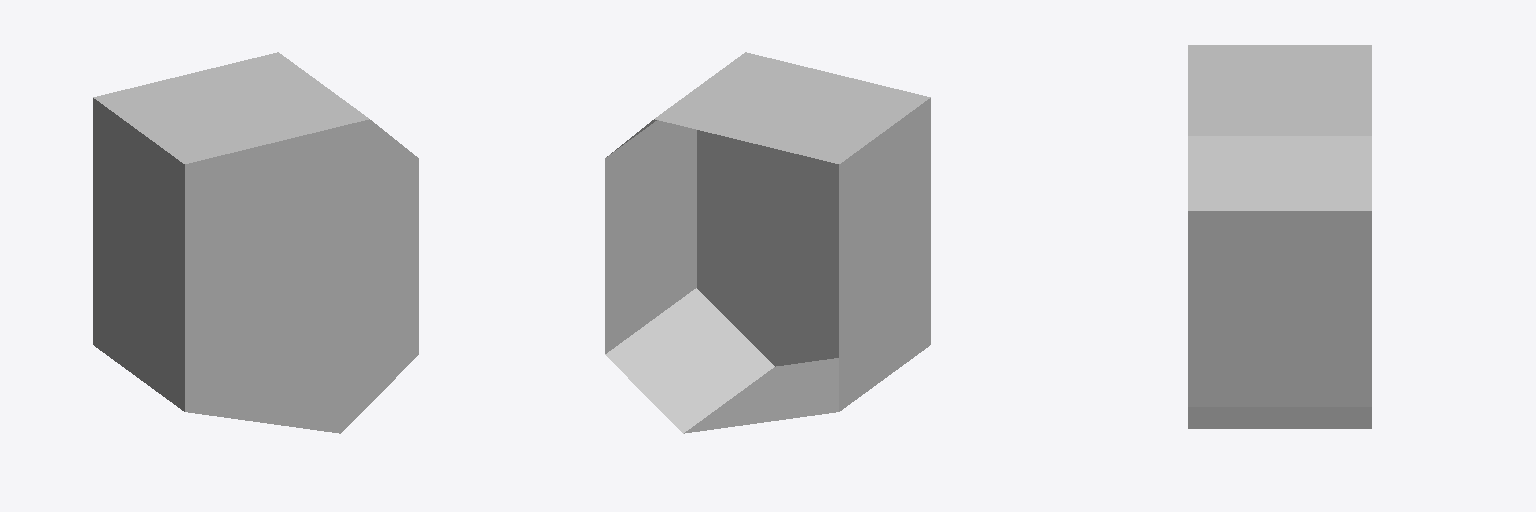
File: building-92.obj
3 views of the same model, side by side, from view 1: azimuth 30°, elevation 25°; view 2: azimuth 150°, elevation 25°; view 3: azimuth 270°, elevation 25° (orthographic).
Bounding box in the file's own units: 7.19 × 9 × 4.86.